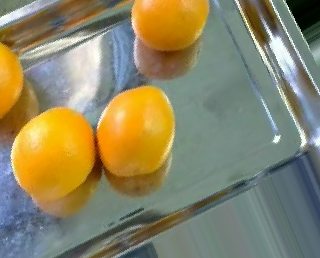Orange: (9, 105, 94, 199), (96, 85, 176, 176), (129, 1, 209, 51)
